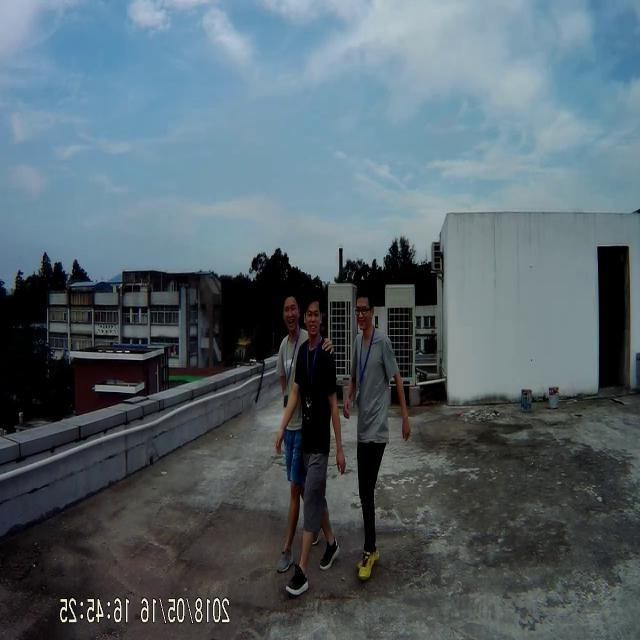Sin_Casco_Mascarrilla: (354, 285, 376, 332)
